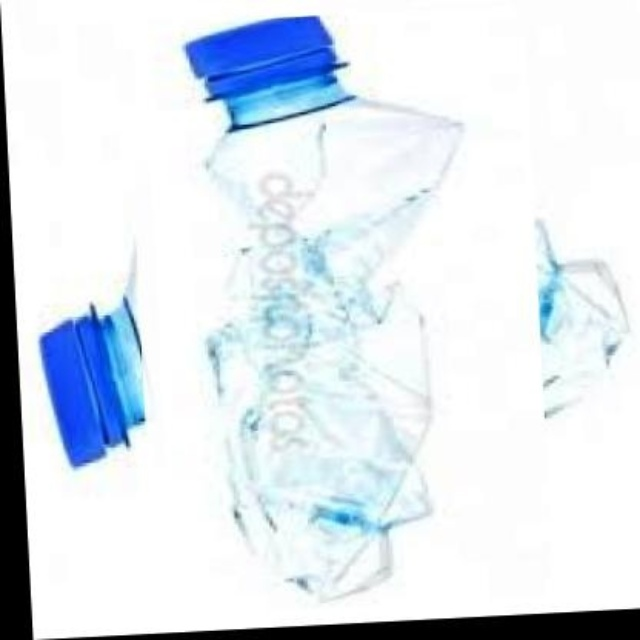trash: (186, 17, 462, 597)
